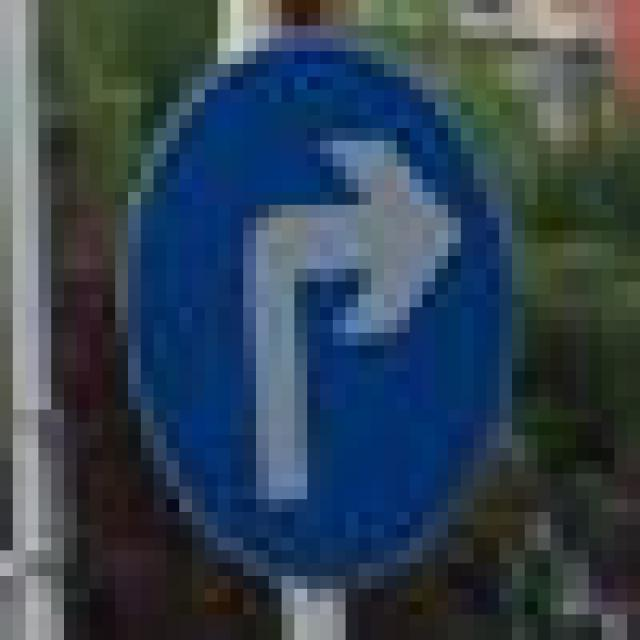TURN_RIGHT: (102, 26, 500, 563)
